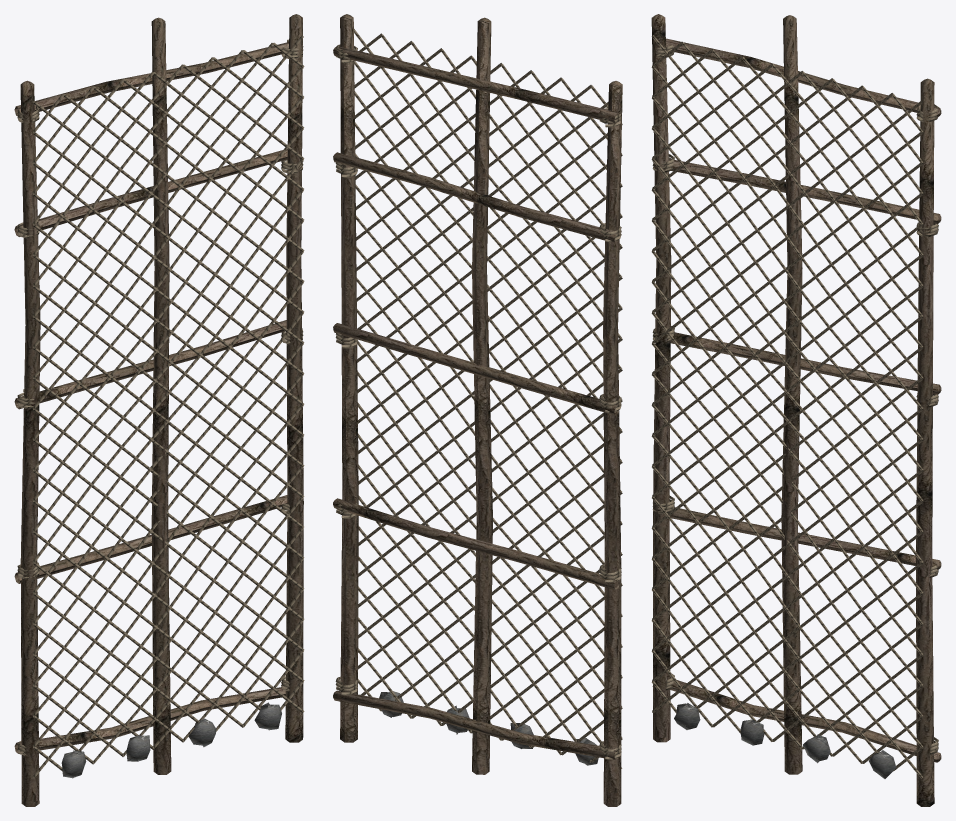
Rendered from kf_net_hurdle.glb.
3 renders of one model, left to right at view 1: azimuth 30°, elevation 25°; view 2: azimuth 150°, elevation 25°; view 3: azimuth 330°, elevation 25°, orthographic.
Parts seen in each view (by area): view 1: kf_net_hurdle; view 2: kf_net_hurdle; view 3: kf_net_hurdle.
Boxes of the visible parts, box(x1,y1,x2,y2) form: kf_net_hurdle: box(14, 14, 304, 806); kf_net_hurdle: box(333, 14, 622, 806); kf_net_hurdle: box(651, 14, 941, 806).
Size of the model in its own units: 0.963 by 2.44 by 0.1303.
Materials: 1 (1 with a texture image).
